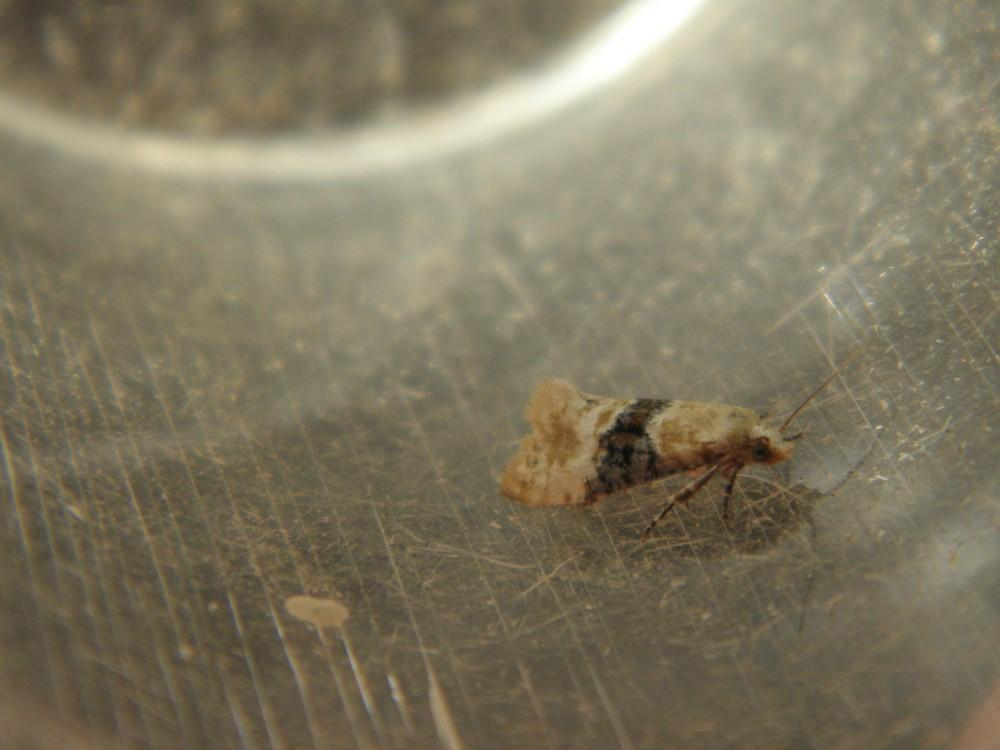Eupoecilia Ambiguella: (495, 362, 848, 543)
